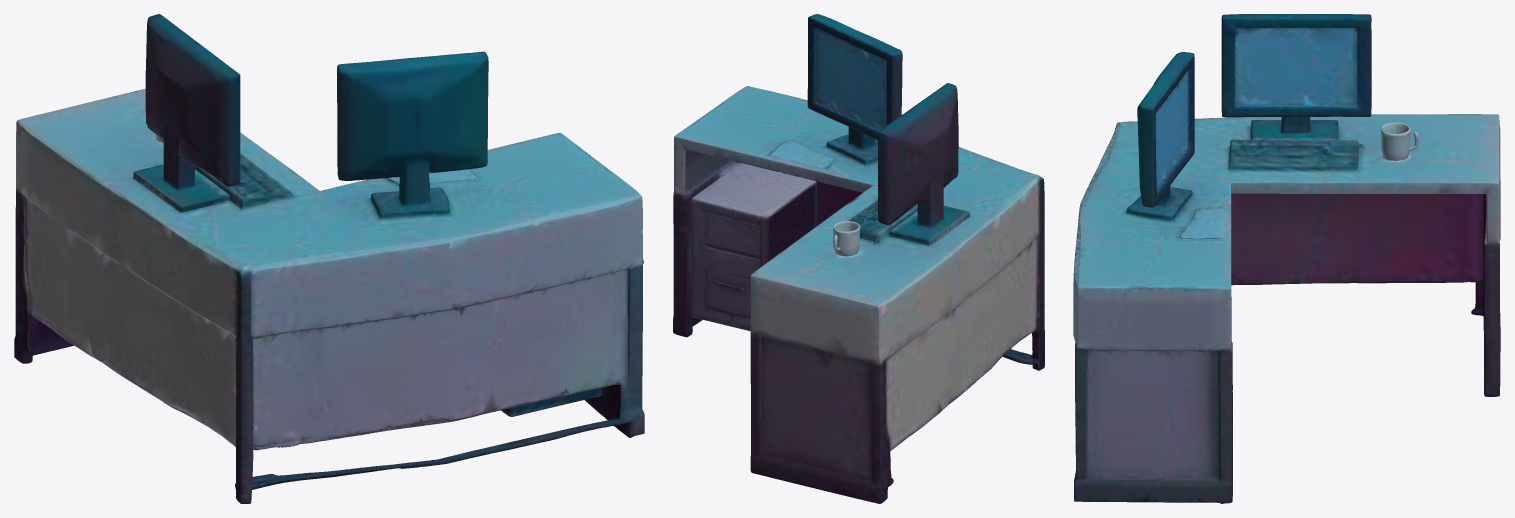
The model's file is office_desk.glb.
3 renders of one model, left to right at view 1: azimuth 30°, elevation 25°; view 2: azimuth 150°, elevation 25°; view 3: azimuth 270°, elevation 25°, orthographic. The views are drawn at different scales.
Visible parts, largest first — view 1: tripo_node_58a70f0b-cacc-407d-8f58-774dcadc8981; view 2: tripo_node_58a70f0b-cacc-407d-8f58-774dcadc8981; view 3: tripo_node_58a70f0b-cacc-407d-8f58-774dcadc8981.
Part boxes in pixels (x1=…): tripo_node_58a70f0b-cacc-407d-8f58-774dcadc8981: x1=14, y1=14, x2=644, y2=503; tripo_node_58a70f0b-cacc-407d-8f58-774dcadc8981: x1=673, y1=14, x2=1044, y2=503; tripo_node_58a70f0b-cacc-407d-8f58-774dcadc8981: x1=1073, y1=14, x2=1500, y2=503.
Size of the model in its own units: 0.9764 by 0.8898 by 0.9999.
Materials: 1 (1 with a texture image).
